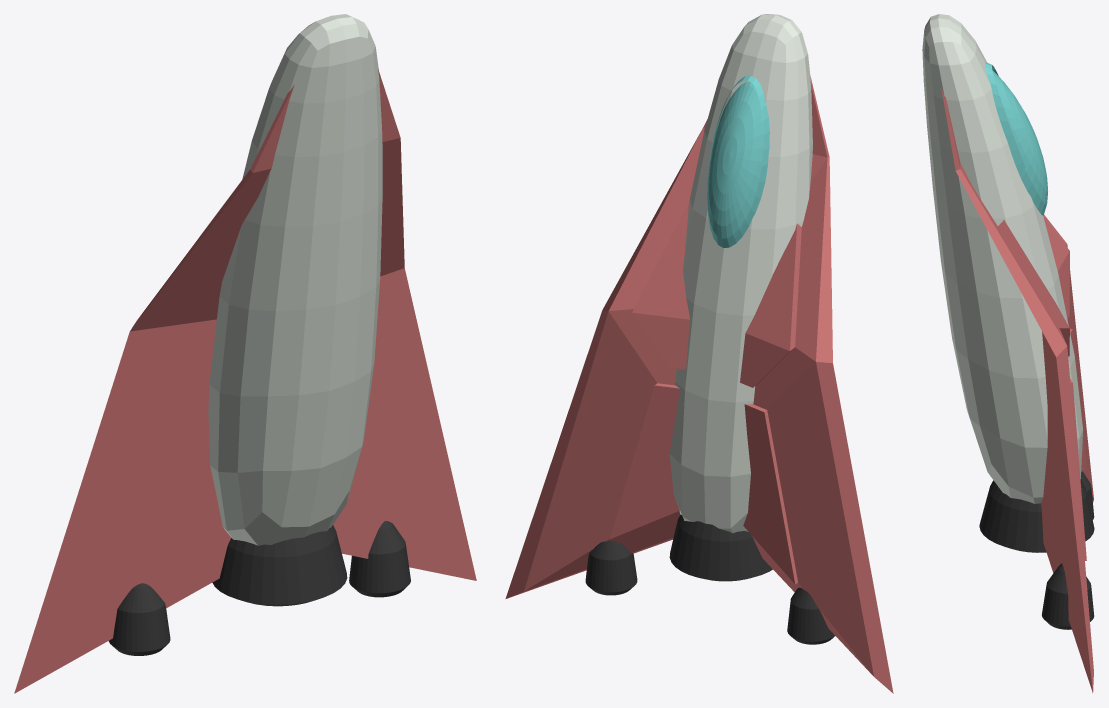
Rendered from MAIN SHIP.fbx.
The picture shows the model from 3 angles, left to right: view 1: azimuth 30°, elevation 25°; view 2: azimuth 150°, elevation 25°; view 3: azimuth 270°, elevation 25°; orthographic projection. The views are drawn at different scales.
Parts seen in each view (by area): view 1: Cube; view 2: Cube; view 3: Cube.
Boxes of the visible parts, bbox=[...] form: Cube: bbox=[14, 14, 476, 693]; Cube: bbox=[505, 14, 893, 693]; Cube: bbox=[922, 14, 1094, 692].
Bounding box in the file's own units: 868 × 1230 × 331.
